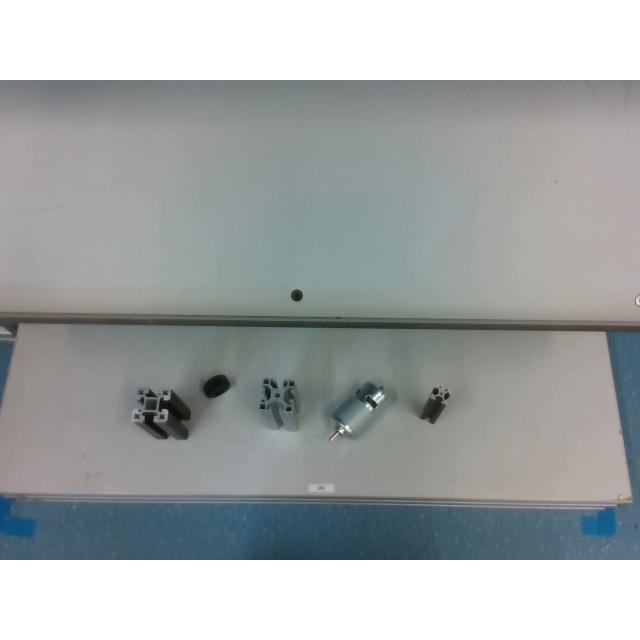F20_20_B: (418, 386, 449, 422)
M20: (202, 374, 230, 398)
Motor2: (330, 382, 390, 442)
S40_40_B: (130, 386, 190, 438)
S40_40_G: (258, 377, 298, 431)
